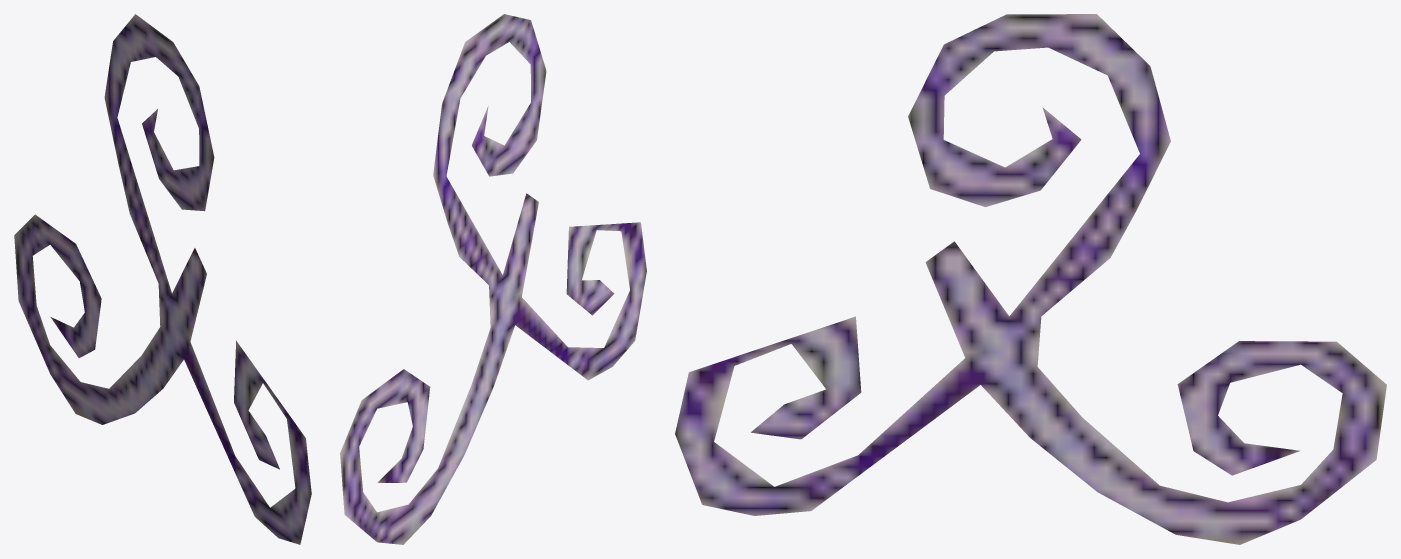
3 views of the same model, side by side, from view 1: azimuth 30°, elevation 25°; view 2: azimuth 150°, elevation 25°; view 3: azimuth 270°, elevation 25° (orthographic). The views are drawn at different scales.
Visible parts, largest first — view 1: Picsart_22-01-21_15-37-57-171.001; view 2: Picsart_22-01-21_15-37-57-171.001; view 3: Picsart_22-01-21_15-37-57-171.001.
Part boxes in pixels (<box>): Picsart_22-01-21_15-37-57-171.001: <box>14,14,311,544</box>; Picsart_22-01-21_15-37-57-171.001: <box>340,14,646,544</box>; Picsart_22-01-21_15-37-57-171.001: <box>675,14,1386,544</box>.
Size of the model in its own units: 1.03e-07 by 0.6714 by 0.8159.
Materials: 1 (1 with a texture image).
